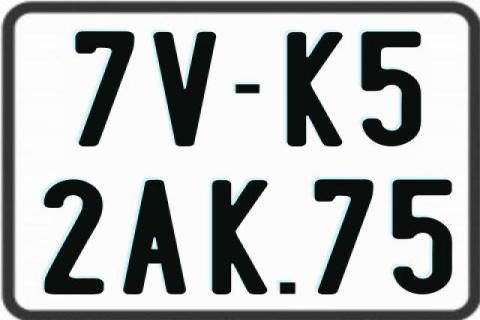0: (392, 178, 458, 298), (44, 179, 109, 296), (360, 29, 422, 149), (314, 177, 374, 293), (73, 31, 132, 147)
A: (123, 177, 186, 297)
K: (211, 178, 267, 298), (285, 30, 341, 146)
V: (154, 32, 219, 148)
